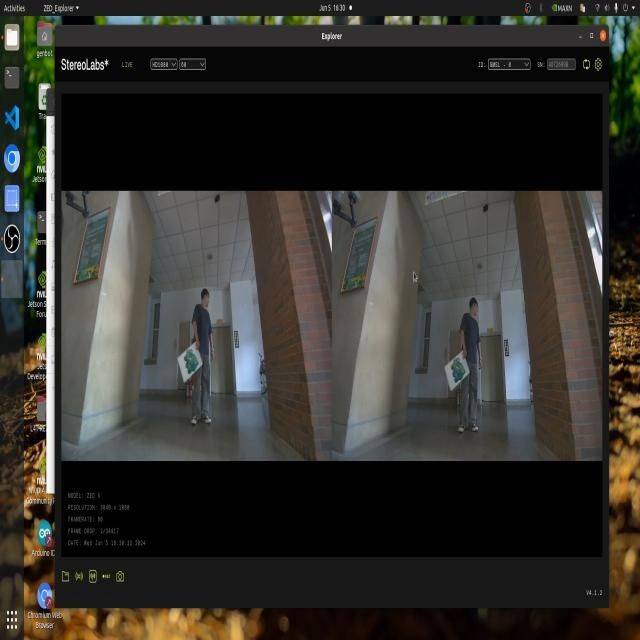green: (182, 347, 206, 377), (452, 354, 467, 392)
